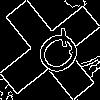Q: (25, 25, 87, 85)
